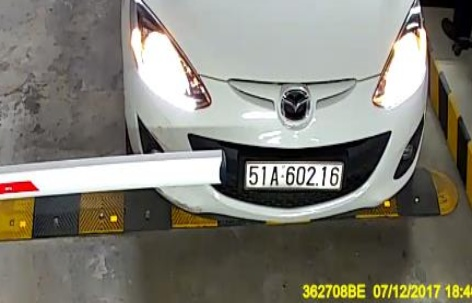plate: (237, 155, 349, 195)
